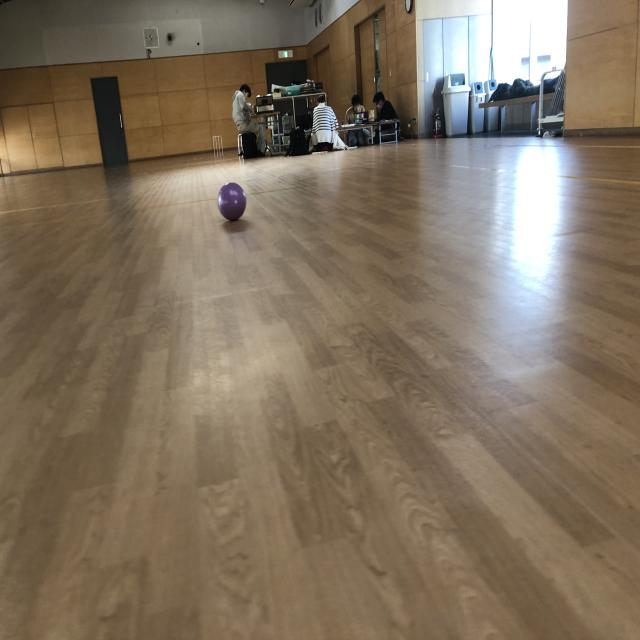purple_ball: (218, 182, 247, 220)
